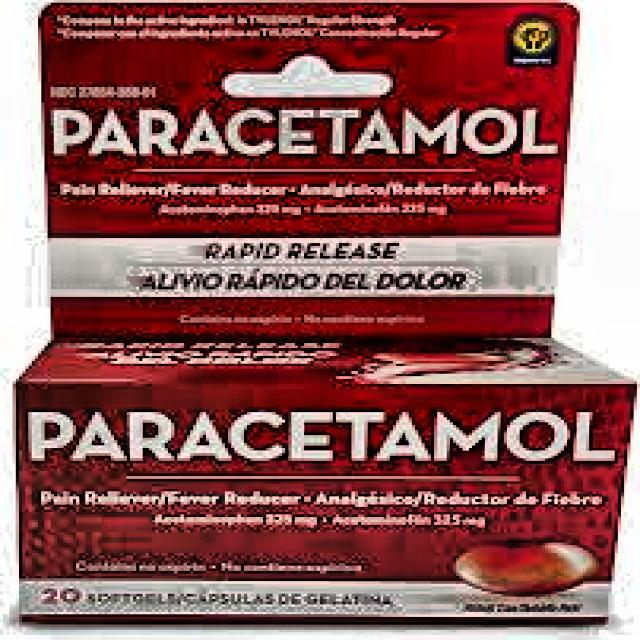Paracetamol: (49, 92, 571, 201), (26, 395, 622, 489)
